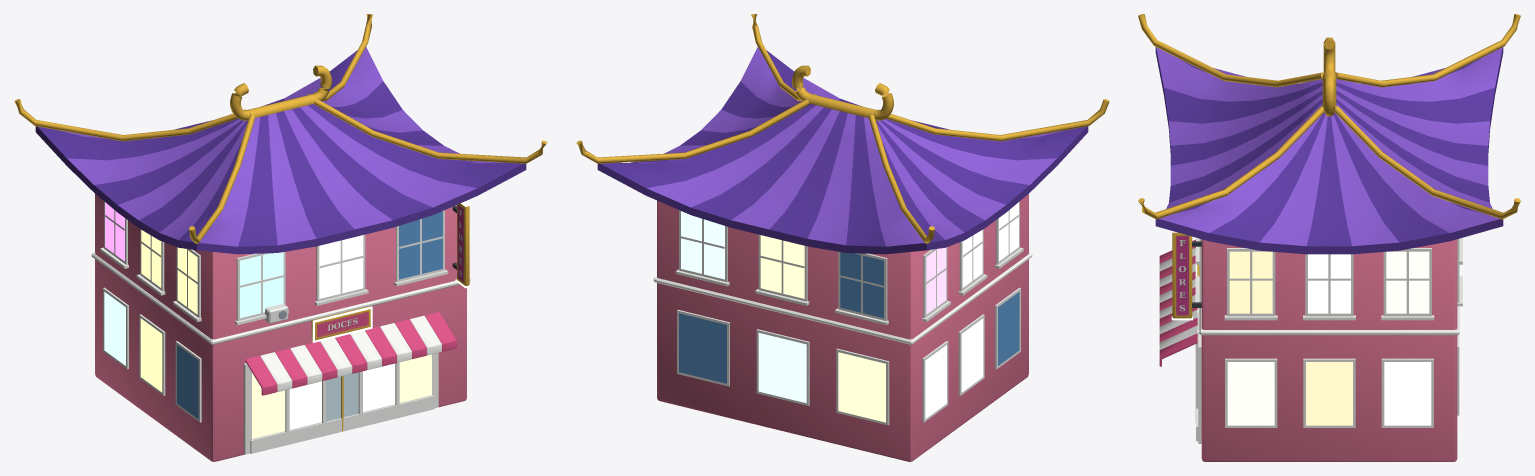
File: loja_2_andares_rosa.glb
3 views of the same model, side by side, from view 1: azimuth 30°, elevation 25°; view 2: azimuth 150°, elevation 25°; view 3: azimuth 270°, elevation 25° (orthographic). The views are drawn at different scales.
Parts seen in each view (by area): view 1: loja_2_andares_rosa; view 2: loja_2_andares_rosa; view 3: loja_2_andares_rosa.
Boxes of the visible parts, x1,y1,x2,y2 form: loja_2_andares_rosa: [14, 14, 547, 461]; loja_2_andares_rosa: [576, 14, 1109, 461]; loja_2_andares_rosa: [1138, 14, 1520, 461].
Size of the model in its own units: 12.86 by 10.79 by 11.08.
Materials: 11 (3 with a texture image).
